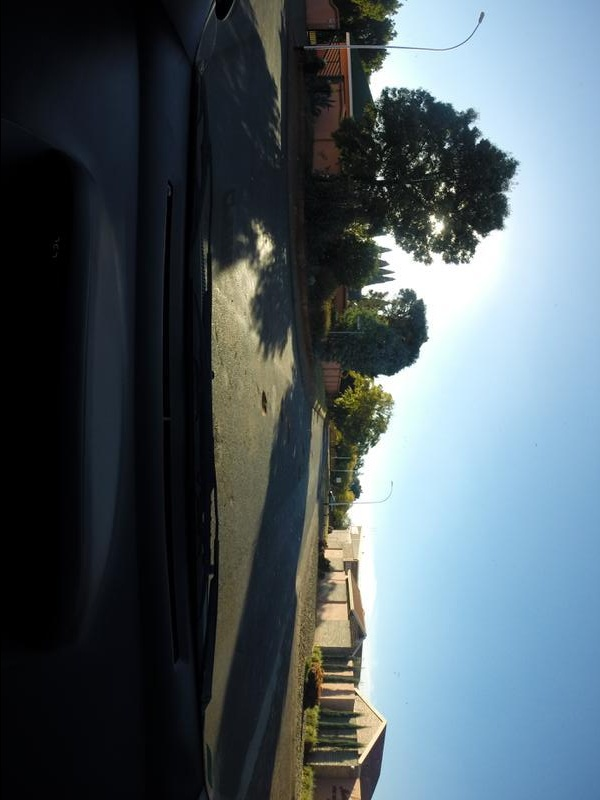pothole: (257, 389, 271, 412), (284, 421, 294, 444), (278, 401, 288, 423), (301, 441, 308, 457), (298, 461, 303, 482)
